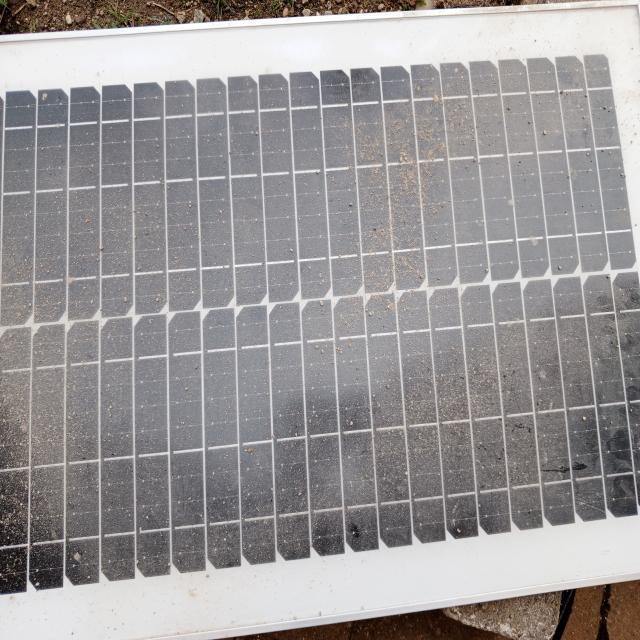Anomaly Solar Panel: (0, 36, 640, 594)
Surface Contaminant: (3, 49, 633, 566)
